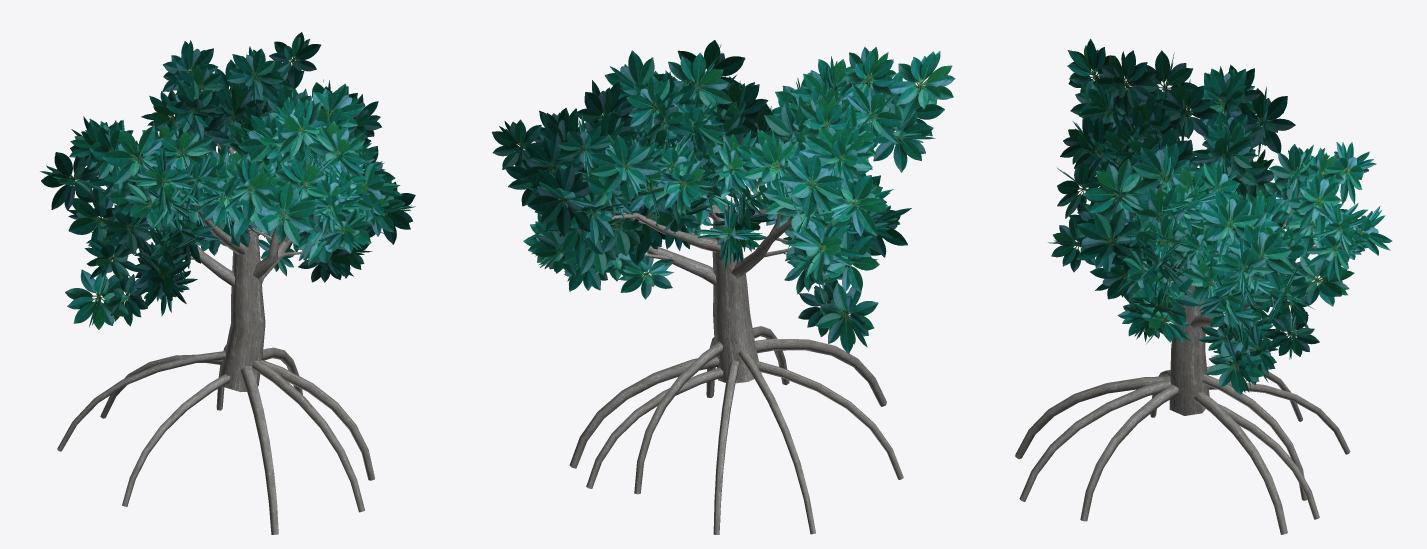
The model's file is nature-blue-mangrove.glb.
The picture shows the model from 3 angles, left to right: view 1: azimuth 30°, elevation 25°; view 2: azimuth 150°, elevation 25°; view 3: azimuth 270°, elevation 25°; orthographic projection. The views are drawn at different scales.
Visible parts, largest first — view 1: nature-blue-mangrove; view 2: nature-blue-mangrove; view 3: nature-blue-mangrove.
Part boxes in pixels (left/top/right/bottom): nature-blue-mangrove: left=40, top=32, right=415, bottom=534; nature-blue-mangrove: left=492, top=40, right=955, bottom=534; nature-blue-mangrove: left=1015, top=38, right=1392, bottom=534.
Size of the model in its own units: 7 by 7.14 by 6.34.
Materials: 2 (2 with a texture image).
